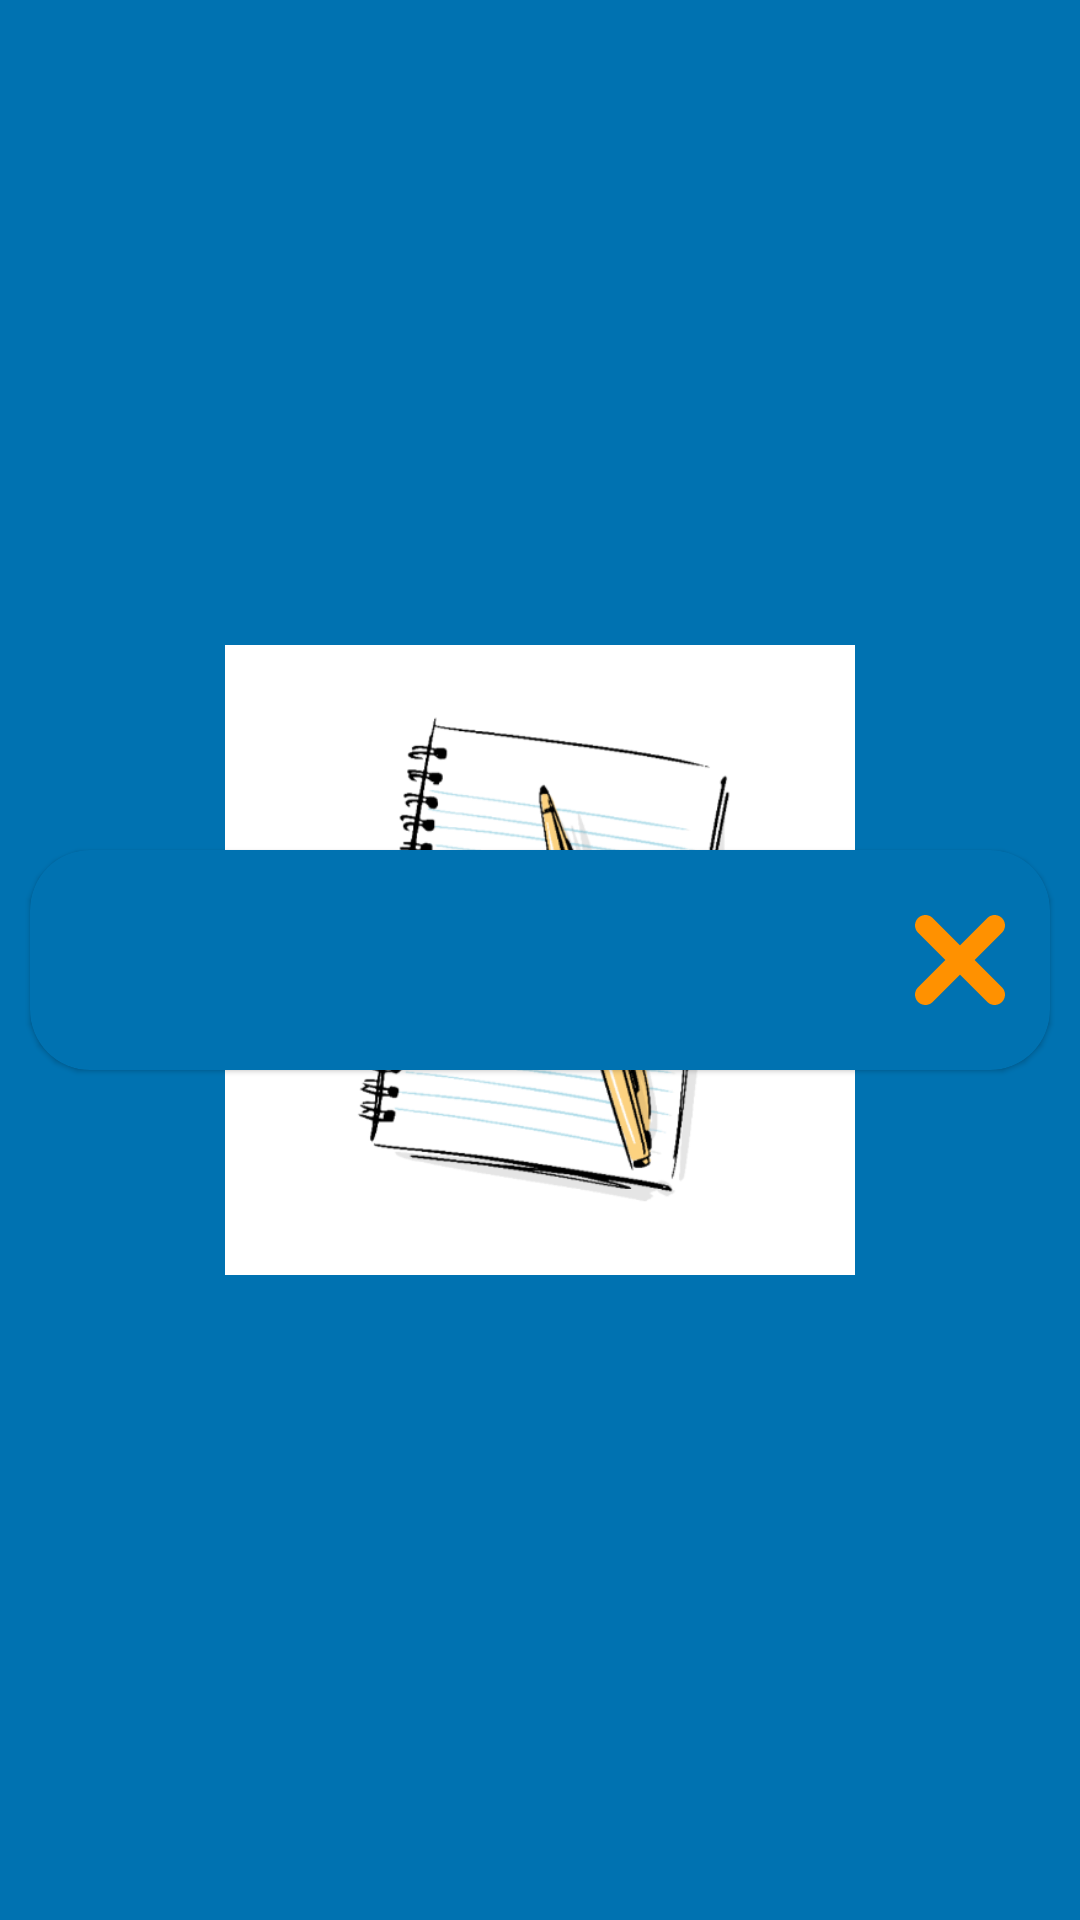

Where to tap for icons on this 1080 × 1920 app screen, as point (x, y):
delete: point (960, 960)
